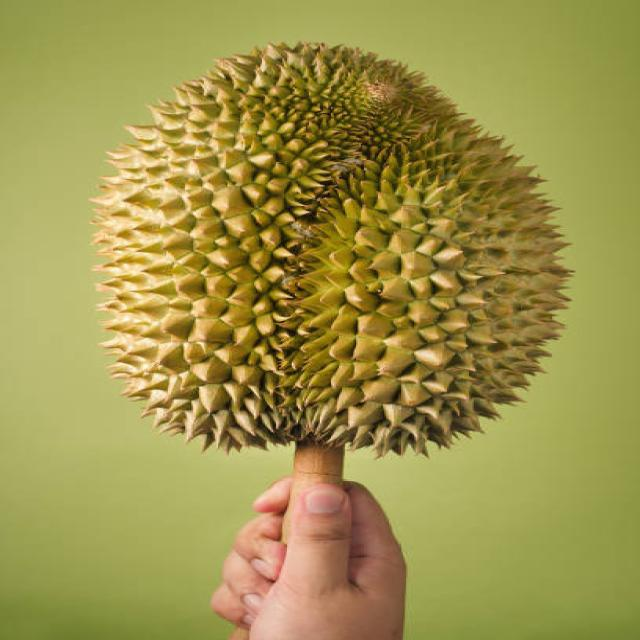mature: (96, 42, 568, 472)
